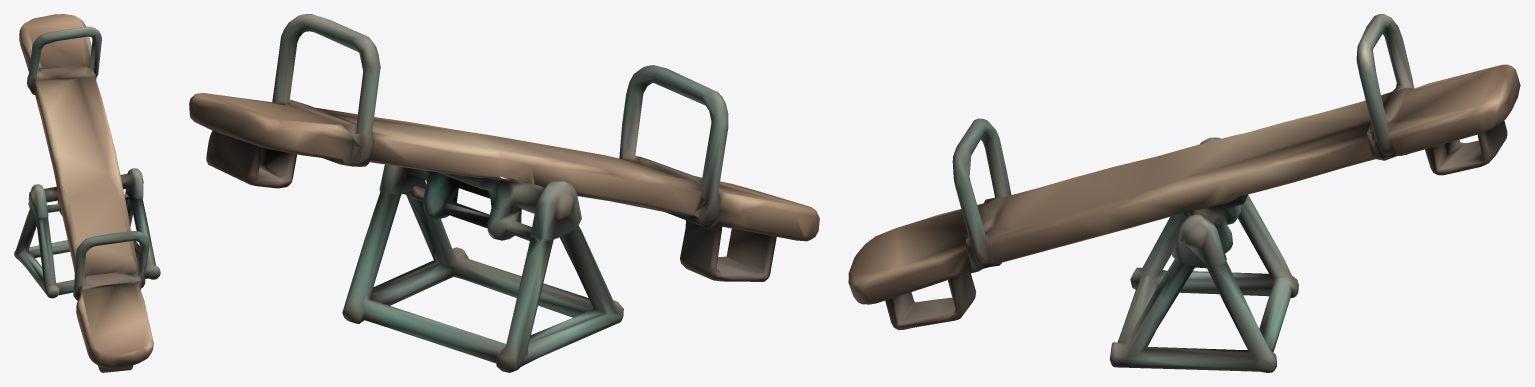
File: seesaw.glb
3 renders of one model, left to right at view 1: azimuth 30°, elevation 25°; view 2: azimuth 150°, elevation 25°; view 3: azimuth 270°, elevation 25°, orthographic. The views are drawn at different scales.
Parts seen in each view (by area): view 1: plank, stand; view 2: plank, stand; view 3: plank, stand.
Boxes of the visible parts, bbox=[...] form: plank: bbox=[19, 14, 153, 372]; stand: bbox=[14, 168, 160, 298]; plank: bbox=[189, 14, 819, 281]; stand: bbox=[342, 164, 623, 372]; plank: bbox=[848, 14, 1520, 330]; stand: bbox=[1109, 137, 1298, 372].
Size of the model in its own units: 2.25 by 2.75 by 4.56.
